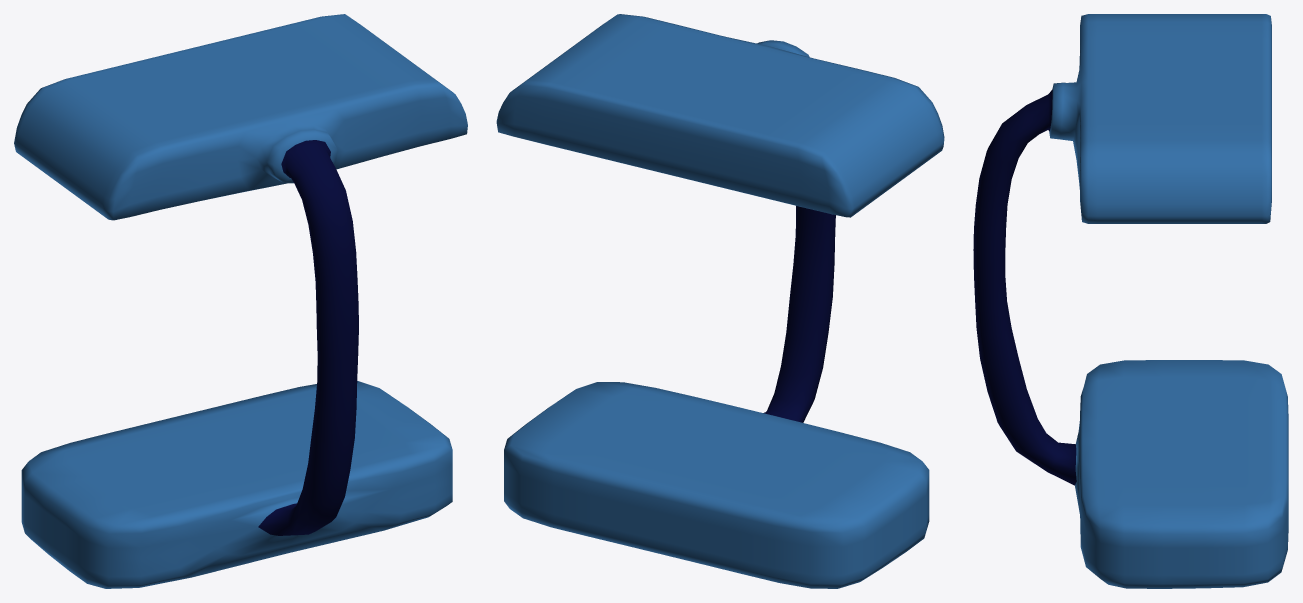
File: SM_DeskLamp.fbx
The picture shows the model from 3 angles, left to right: view 1: azimuth 30°, elevation 25°; view 2: azimuth 150°, elevation 25°; view 3: azimuth 270°, elevation 25°; orthographic projection. The views are drawn at different scales.
Visible parts, largest first — view 1: SM_DeskLamp; view 2: SM_DeskLamp; view 3: SM_DeskLamp.
Part boxes in pixels (x1,y1,x2,y2): SM_DeskLamp: (14,14,467,588); SM_DeskLamp: (496,14,944,588); SM_DeskLamp: (973,14,1288,588).
Bounding box in the file's own units: 200 × 231 × 156.
